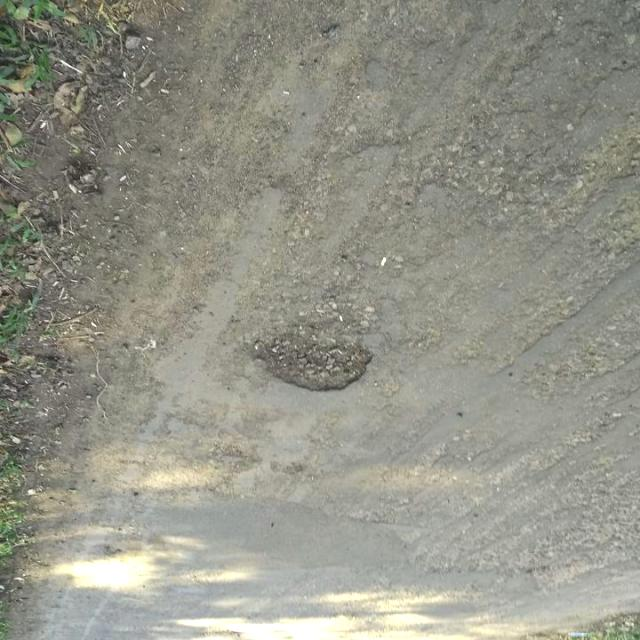pothole: (238, 300, 388, 404)
